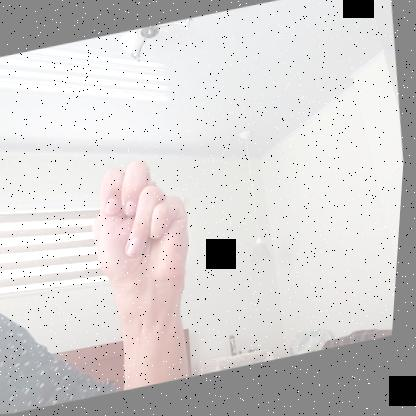N: (82, 150, 207, 316)
